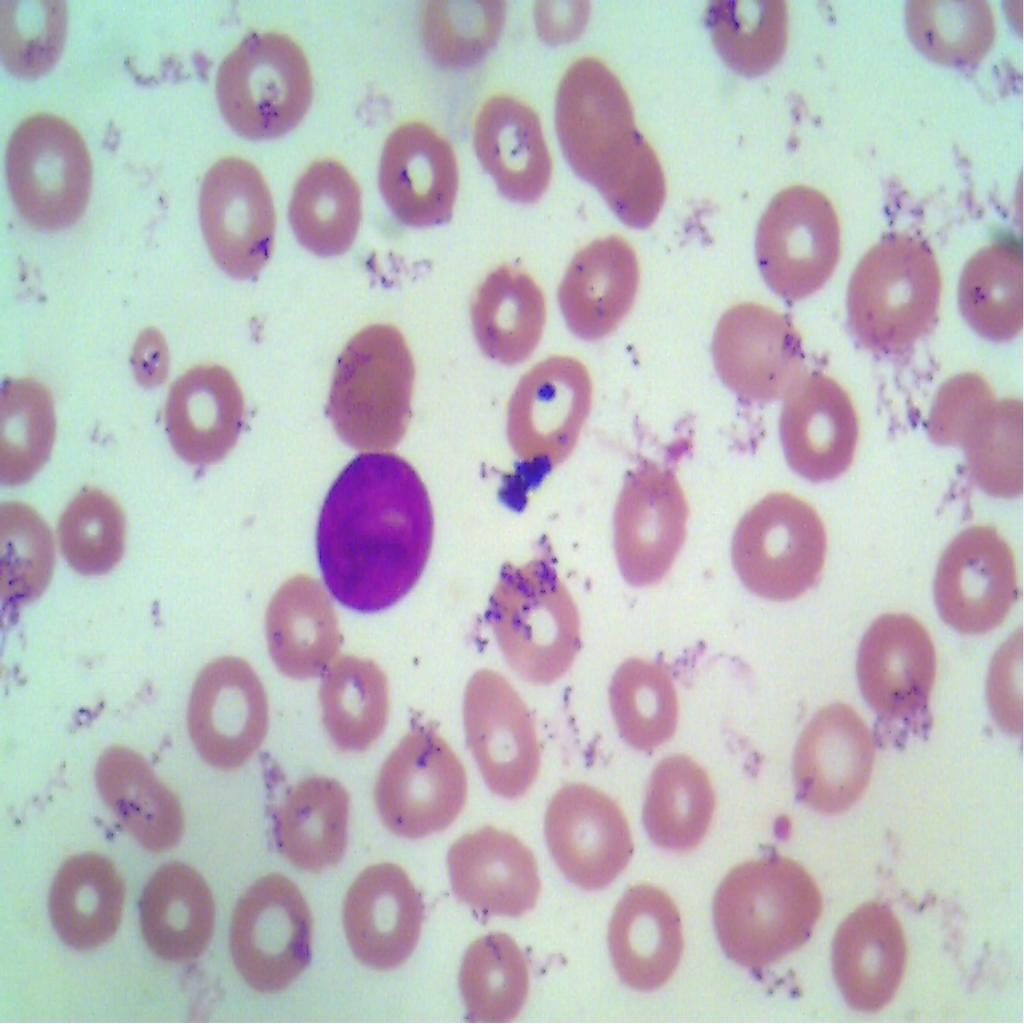Eritrosit: (703, 840, 829, 988), (450, 644, 550, 815), (314, 310, 430, 454), (529, 764, 646, 898), (203, 29, 333, 144), (478, 551, 584, 690), (331, 848, 438, 985), (490, 344, 596, 482), (778, 698, 892, 824), (828, 874, 921, 1023), (724, 491, 838, 610), (601, 461, 699, 597), (746, 175, 846, 308), (431, 814, 544, 930), (586, 638, 686, 768), (226, 867, 323, 1001), (374, 724, 471, 856), (102, 734, 200, 864), (450, 247, 558, 364), (846, 234, 943, 360), (0, 115, 102, 234), (582, 120, 684, 239), (198, 150, 286, 287), (850, 598, 942, 728), (931, 518, 1023, 648), (556, 227, 650, 352), (552, 48, 638, 183), (775, 362, 862, 495), (379, 109, 468, 239), (158, 357, 256, 474), (701, 291, 804, 402), (262, 765, 368, 871), (635, 740, 733, 852), (598, 871, 688, 991), (189, 658, 273, 785), (138, 844, 228, 961), (46, 838, 138, 952), (279, 150, 373, 260), (895, 0, 1006, 87), (255, 574, 346, 677), (471, 92, 556, 202), (318, 639, 394, 755), (0, 378, 76, 492), (950, 241, 1024, 349), (915, 365, 998, 461), (448, 925, 526, 1023), (700, 0, 794, 79), (411, 0, 511, 74), (56, 477, 126, 581), (964, 390, 1023, 506), (106, 314, 174, 396)
Limfoblast: (308, 448, 442, 621)
Platelet: (766, 808, 802, 854), (535, 378, 559, 408)
